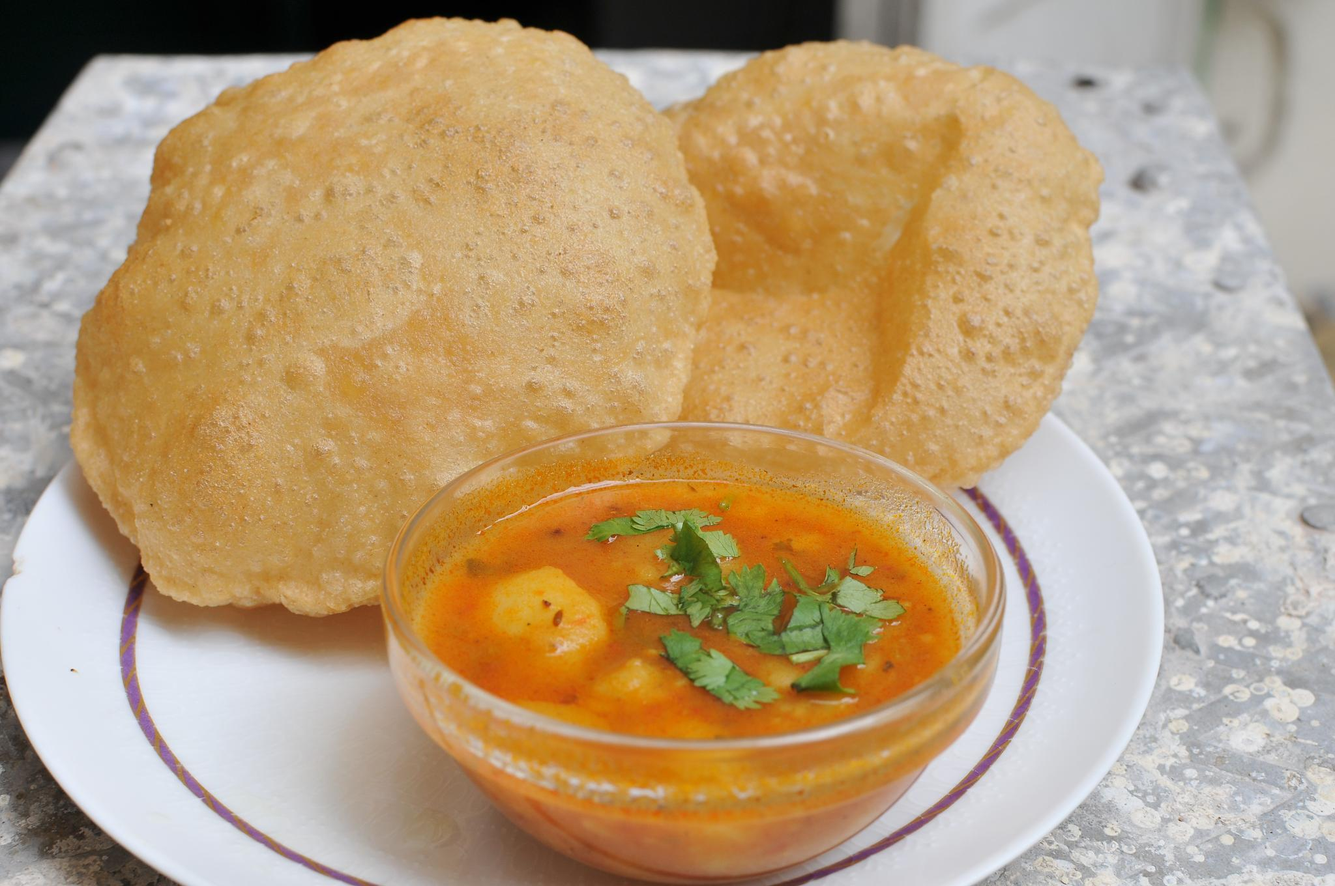puri: (68, 9, 1258, 439)
